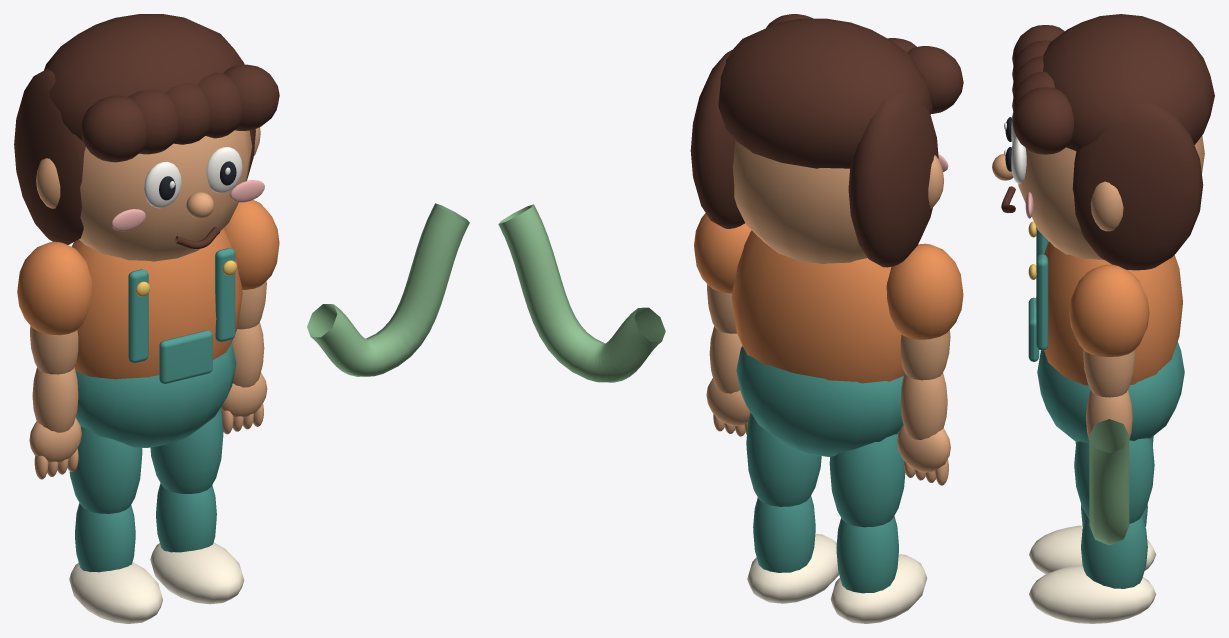
Rendered from ava-need-yes.glb.
3 views of the same model, side by side, from view 1: azimuth 30°, elevation 25°; view 2: azimuth 150°, elevation 25°; view 3: azimuth 270°, elevation 25° (orthographic). The views are drawn at different scales.
Parts seen in each view (by area): view 1: soft shirt, hair cap, clay head, yes check, overalls, bob hair, shirt sleeve, trouser leg, little shoe, little shoe.001, trouser leg.001, fringe (+19 smaller); view 2: hair cap, soft shirt, bob hair, overalls, clay head, yes check, shirt sleeve, trouser leg, bob hair.001, trouser leg.001, lower leg.001, lower leg (+10 smaller); view 3: bob hair.001, hair cap, soft shirt, shirt sleeve.001, overalls, clay head, little shoe.001, yes check, lower leg.001, fringe.004, trouser leg.001, little shoe (+11 smaller).
Boxes of the visible parts, x1=… form: soft shirt: x1=71, y1=228, x2=242, y2=379; hair cap: x1=44, y1=14, x2=244, y2=140; clay head: x1=79, y1=130, x2=252, y2=261; yes check: x1=307, y1=203, x2=469, y2=376; overalls: x1=75, y1=342, x2=236, y2=447; bob hair: x1=14, y1=68, x2=85, y2=244; shirt sleeve: x1=17, y1=241, x2=91, y2=335; trouser leg: x1=69, y1=426, x2=142, y2=513; little shoe: x1=69, y1=562, x2=162, y2=623; little shoe.001: x1=150, y1=542, x2=244, y2=604; trouser leg.001: x1=150, y1=407, x2=223, y2=493; fringe: x1=80, y1=95, x2=146, y2=162; hair cap: x1=718, y1=18, x2=932, y2=168; soft shirt: x1=731, y1=230, x2=904, y2=383; bob hair: x1=848, y1=91, x2=938, y2=267; overalls: x1=736, y1=346, x2=903, y2=456; clay head: x1=733, y1=140, x2=867, y2=264; yes check: x1=498, y1=204, x2=665, y2=382; shirt sleeve: x1=886, y1=243, x2=963, y2=339; trouser leg: x1=829, y1=431, x2=905, y2=527; bob hair.001: x1=690, y1=49, x2=744, y2=228; trouser leg.001: x1=746, y1=412, x2=821, y2=506; lower leg.001: x1=753, y1=496, x2=815, y2=572; lower leg: x1=836, y1=516, x2=898, y2=593; bob hair.001: x1=1072, y1=103, x2=1203, y2=270; hair cap: x1=1043, y1=14, x2=1214, y2=151; soft shirt: x1=1035, y1=241, x2=1182, y2=385; shirt sleeve.001: x1=1069, y1=264, x2=1149, y2=356; overalls: x1=1037, y1=342, x2=1184, y2=443; clay head: x1=1018, y1=136, x2=1204, y2=259; little shoe.001: x1=1029, y1=565, x2=1156, y2=623; yes check: x1=1089, y1=419, x2=1129, y2=545; lower leg.001: x1=1081, y1=515, x2=1147, y2=588; fringe.004: x1=1012, y1=87, x2=1073, y2=154; trouser leg.001: x1=1074, y1=438, x2=1154, y2=523; little shoe: x1=1029, y1=525, x2=1156, y2=574.
Size of the model in its own units: 1.54 by 1.87 by 0.665.
